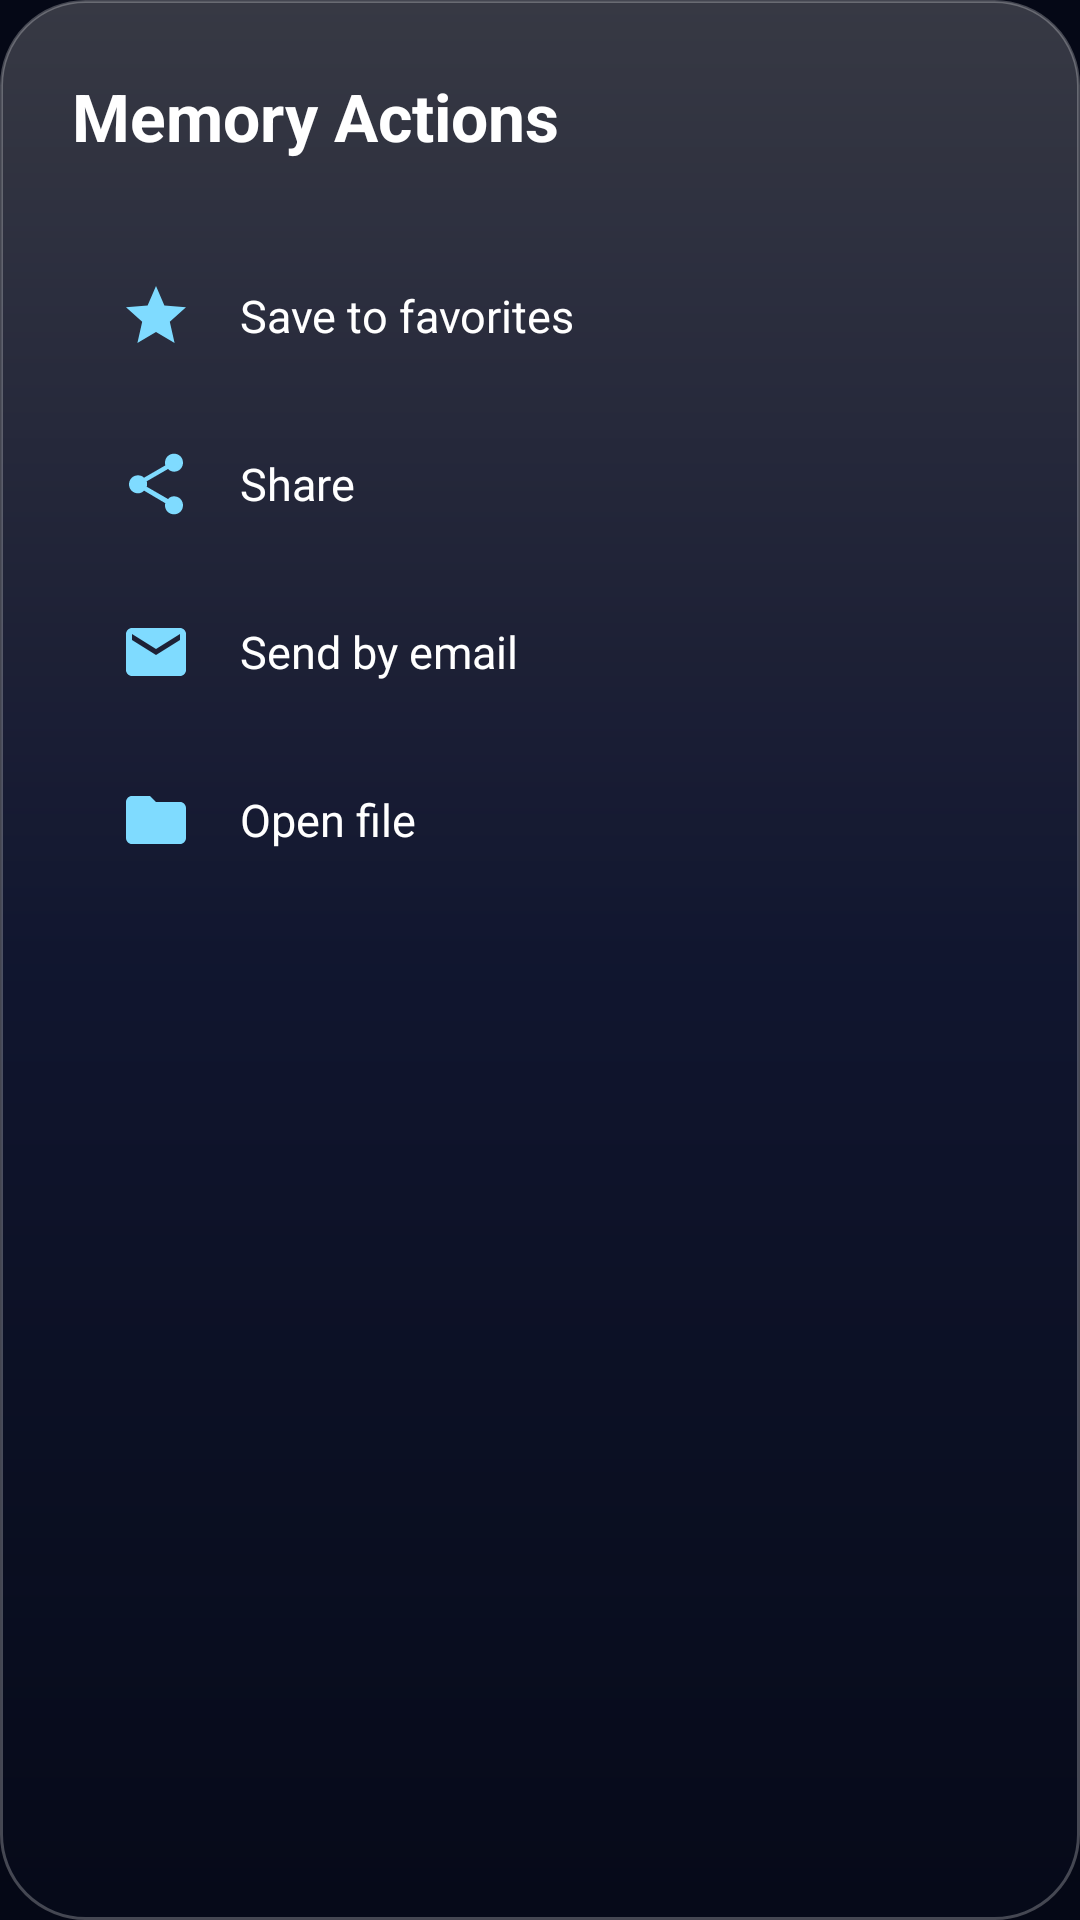

Where icons sit on this 1080 × 1920 app screen, as (left=x1, top=y1, right=x2, bottom=y2):
folder: (left=126, top=796, right=186, bottom=844)
